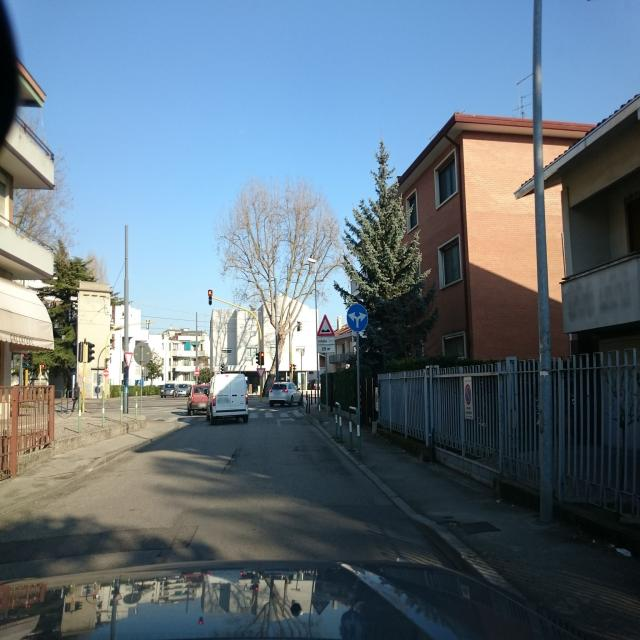car: (206, 371, 250, 424), (268, 381, 304, 407), (187, 383, 210, 415), (176, 382, 193, 398), (160, 384, 176, 397)
